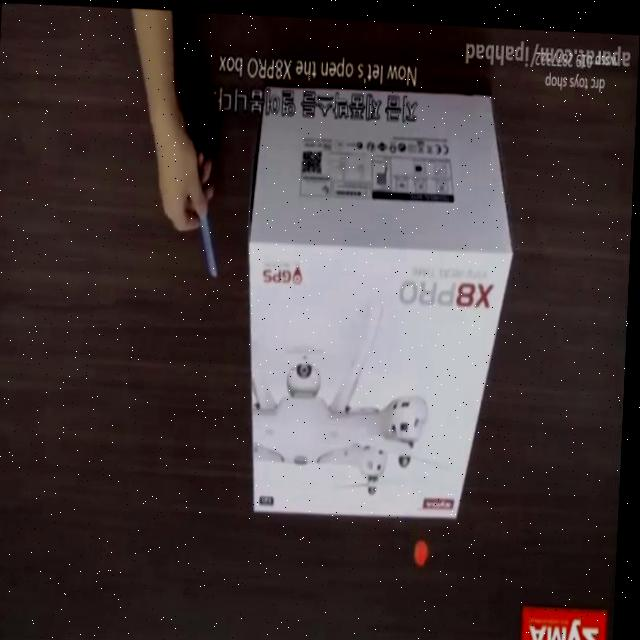drone: (249, 297, 461, 495)
